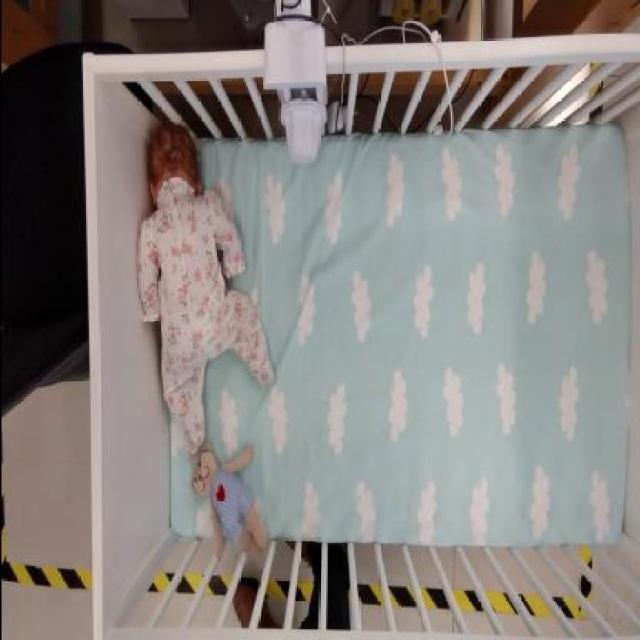baby: (132, 121, 278, 458)
